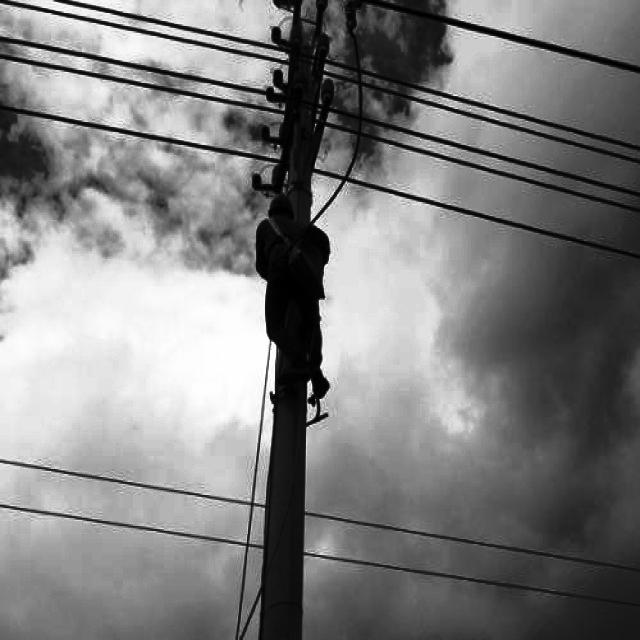1 casque: (246, 193, 336, 399)
